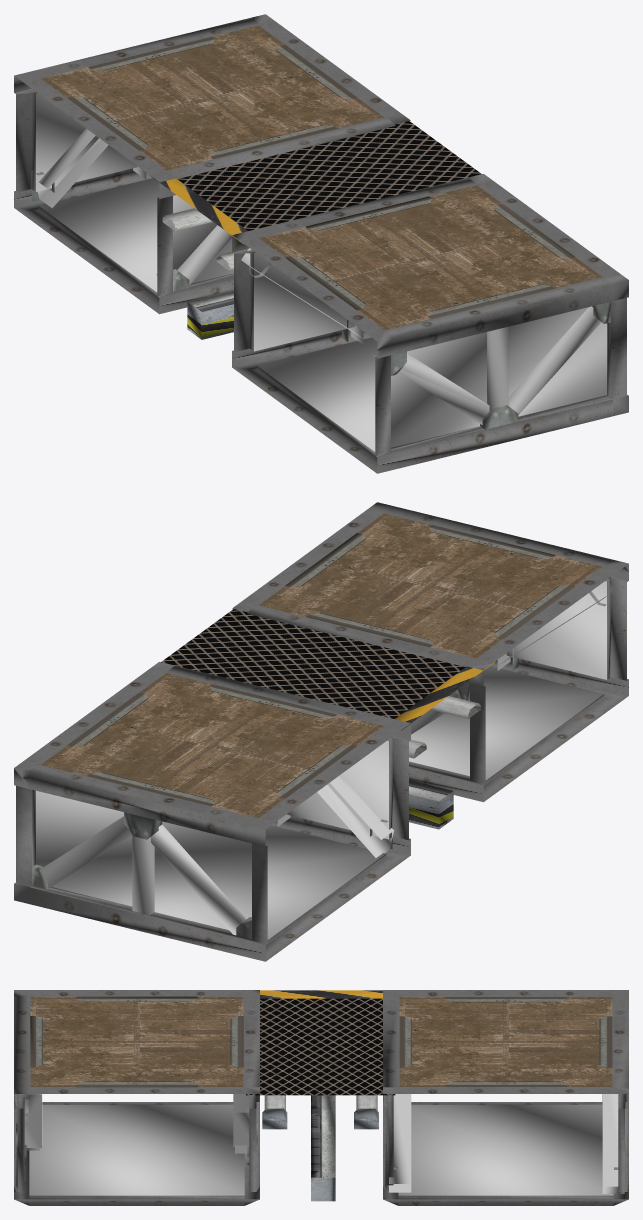
File: Ob_PlatformRailRoad1Start_RC.fbx
3 renders of one model, top to bottom at view 1: azimuth 30°, elevation 25°; view 2: azimuth 150°, elevation 25°; view 3: azimuth 270°, elevation 25°, orthographic. The views are drawn at different scales.
Parts seen in each view (by area): view 1: Ob_PlatformRailRoad1Start_RC; view 2: Ob_PlatformRailRoad1Start_RC; view 3: Ob_PlatformRailRoad1Start_RC.
Boxes of the visible parts, x1,y1,x2,y2 form: Ob_PlatformRailRoad1Start_RC: (14,14,628,473); Ob_PlatformRailRoad1Start_RC: (14,502,628,961); Ob_PlatformRailRoad1Start_RC: (14,990,628,1205).
Size of the model in its own units: 800 by 402 by 2000.
